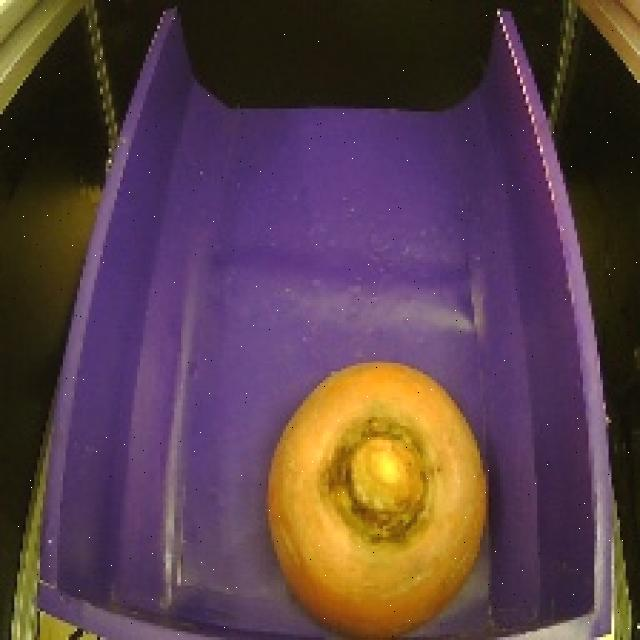carrots: (256, 348, 500, 640)
